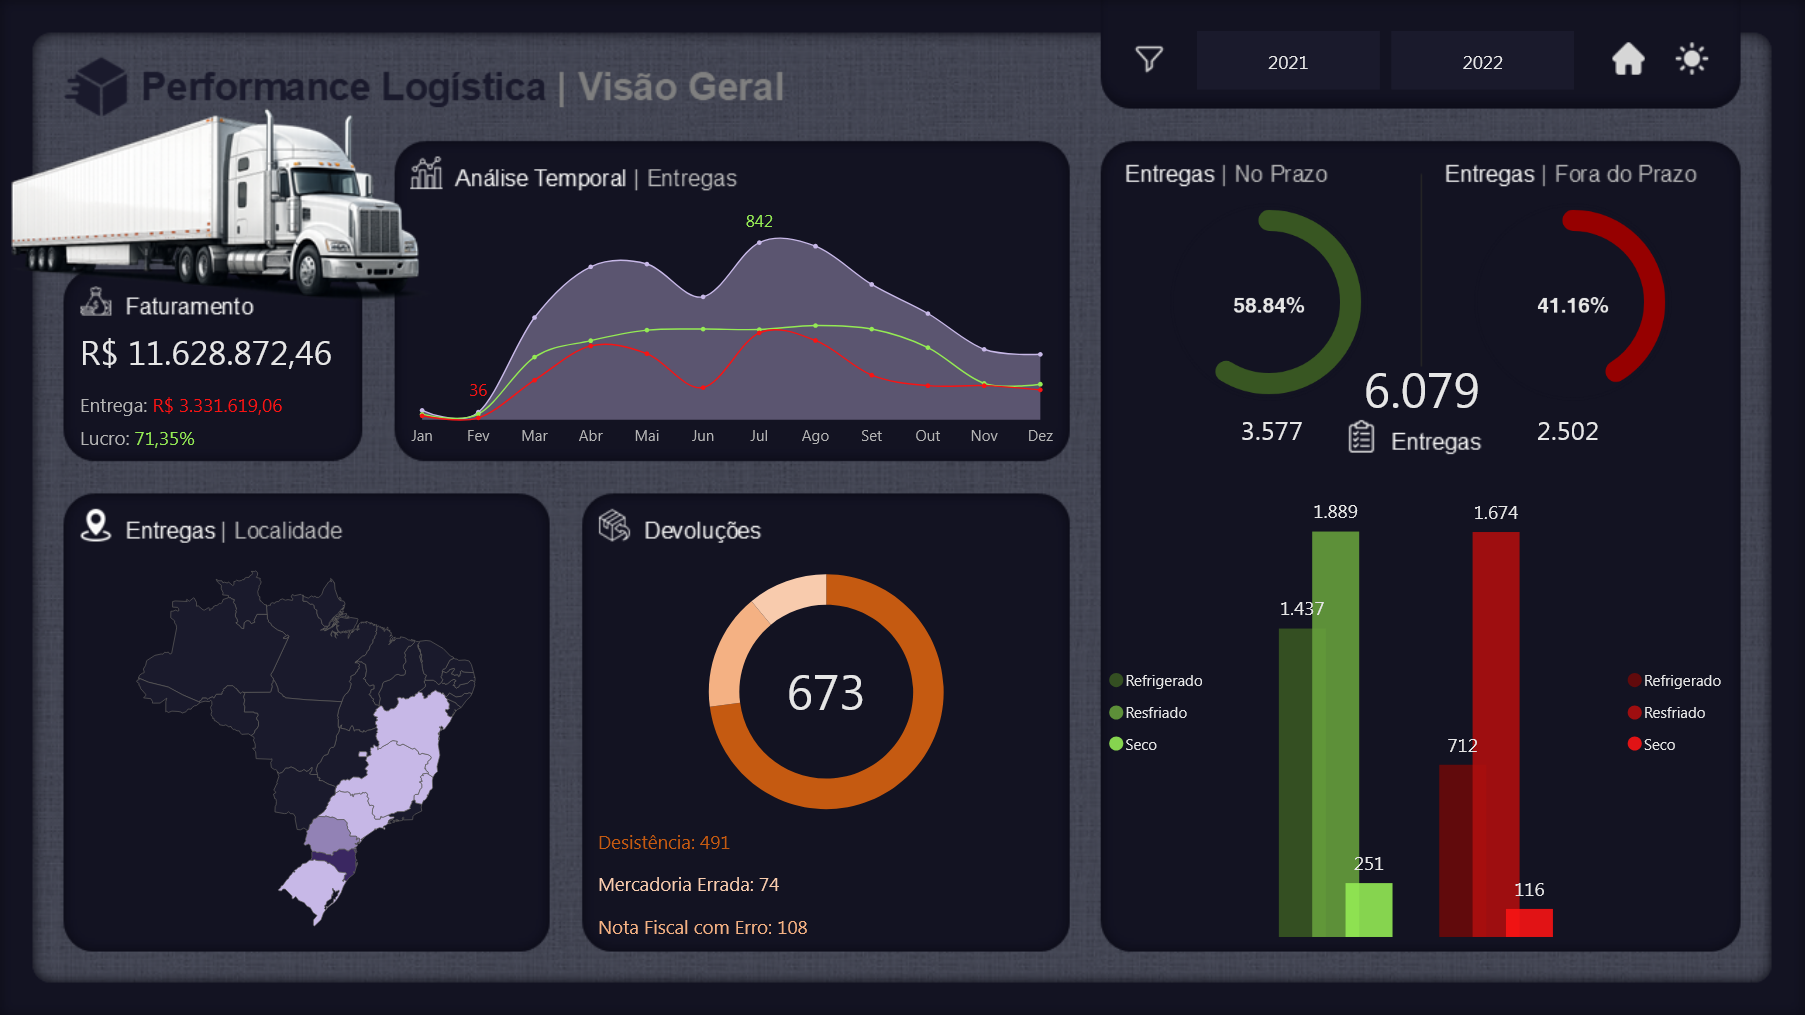

What the dashboard file says about the page in this screenshot:
{"tool":"powerbi","page":{"name":"visao-geral-dark","canvas":[1280,720],"ordinal":1},"visuals":[{"type":"card","fields":{"Values":["Medidas.Pedidos no Prazo"]},"box":[826,290,153.2,33.3],"z":2000},{"type":"areaChart","title":"Quantidade de Pedidos por Mês","fields":{"Category":["dCalendario.mes_abreviado"],"Y":["Tabela.Quantidade de Pedidos","Medidas.Pedidos no Prazo","Medidas.Pedidos Atrasados"]},"box":[279.2,135.7,478.4,190.6],"z":5000},{"type":"donutChart","fields":{"Category":["dimensao_motivo_devolucao.motivo_devolucao"],"Y":["Medidas.Quantidade de Pedidos"]},"box":[412,386.4,348,208.2],"z":6000},{"type":"payPalKPIDonutChart55A431AB15A540ED924ACD72ED8D259F","title":"Pedidos Atrasados","fields":{"myvalue":["Medidas.% Pedidos Atrasados"]},"box":[1016,134,200,160],"z":7000},{"type":"payPalKPIDonutChart55A431AB15A540ED924ACD72ED8D259F","title":"Pedidos no Prazo","fields":{"myvalue":["Medidas.% Pedidos no Prazo"]},"box":[800,134,200,160],"z":8000},{"type":"advancedSlicerVisual","fields":{"Values":["dCalendario.ano"]},"box":[844.7,18,276.1,50.2],"z":9000},{"type":"shapeMap","fields":{"Category":["dimensao_estados_brasileiros.uf"],"Value":["Medidas.pedidos"]},"box":[44,386,346,290],"z":10000},{"type":"card","fields":{"Values":["Medidas.Pedidos Atrasados"]},"box":[1036,290,153.2,33.3],"z":11000},{"type":"card","fields":{"Values":["Medidas.Quantidade de Pedidos"]},"box":[932,248,152.9,56],"z":12000},{"type":"clusteredColumnChart","fields":{"Category":["dimensao_status.status"],"Series":["dimensao_veiculos.tipo_bau"],"Y":["Medidas.Quantidade de Pedidos"]},"box":[780,338,260,334],"z":13000},{"type":"clusteredColumnChart","fields":{"Category":["dimensao_status.status"],"Series":["dimensao_veiculos.tipo_bau"],"Y":["Medidas.Quantidade de Pedidos"]},"box":[976,338,260,334],"z":14000},{"type":"card","fields":{"Values":["Medidas.Devoluções"]},"box":[509,462.2,153.5,55.6],"z":14001},{"type":"cardVisual","fields":{"Data":["Medidas.Desistência"]},"box":[412,574,216.1,38],"z":14002},{"type":"cardVisual","fields":{"Data":["Medidas.Mercadoria Errada"]},"box":[412,604,216.1,38],"z":14003},{"type":"cardVisual","fields":{"Data":["Medidas.Nota Fiscal com Erro"]},"box":[412,634,216.1,38],"z":14004},{"type":"cardVisual","fields":{"Data":["Medidas.Valor do Frete"]},"box":[44.3,216,214,114],"z":14005},{"type":"actionButton","box":[1136,22.7,40,40],"z":14006},{"type":"actionButton","box":[1181.2,22.7,40,40],"z":14007}]}

Visuals, with their boxes in screenshot pixels (x1, y1, x2, y2), scaled from the page's 1280x720 canvas onto the 1805x1015 screenshot:
card - Medidas.Pedidos no Prazo: region(1165, 409, 1381, 456)
"Quantidade de Pedidos por Mês" areaChart: region(394, 191, 1068, 460)
donutChart - dimensao_motivo_devolucao.motivo_devolucao x Medidas.Quantidade de Pedidos: region(581, 545, 1072, 838)
"Pedidos Atrasados" payPalKPIDonutChart55A431AB15A540ED924ACD72ED8D259F: region(1433, 189, 1715, 414)
"Pedidos no Prazo" payPalKPIDonutChart55A431AB15A540ED924ACD72ED8D259F: region(1128, 189, 1410, 414)
advancedSlicerVisual - dCalendario.ano: region(1191, 25, 1581, 96)
shapeMap - dimensao_estados_brasileiros.uf x Medidas.pedidos: region(62, 544, 550, 953)
card - Medidas.Pedidos Atrasados: region(1461, 409, 1677, 456)
card - Medidas.Quantidade de Pedidos: region(1314, 350, 1530, 429)
clusteredColumnChart - dimensao_status.status x dimensao_veiculos.tipo_bau: region(1100, 476, 1467, 947)
clusteredColumnChart - dimensao_status.status x dimensao_veiculos.tipo_bau: region(1376, 476, 1743, 947)
card - Medidas.Devoluções: region(718, 652, 934, 730)
cardVisual - Medidas.Desistência: region(581, 809, 886, 863)
cardVisual - Medidas.Mercadoria Errada: region(581, 851, 886, 905)
cardVisual - Medidas.Nota Fiscal com Erro: region(581, 894, 886, 947)
cardVisual - Medidas.Valor do Frete: region(62, 304, 364, 465)
actionButton: region(1602, 32, 1658, 88)
actionButton: region(1666, 32, 1722, 88)
